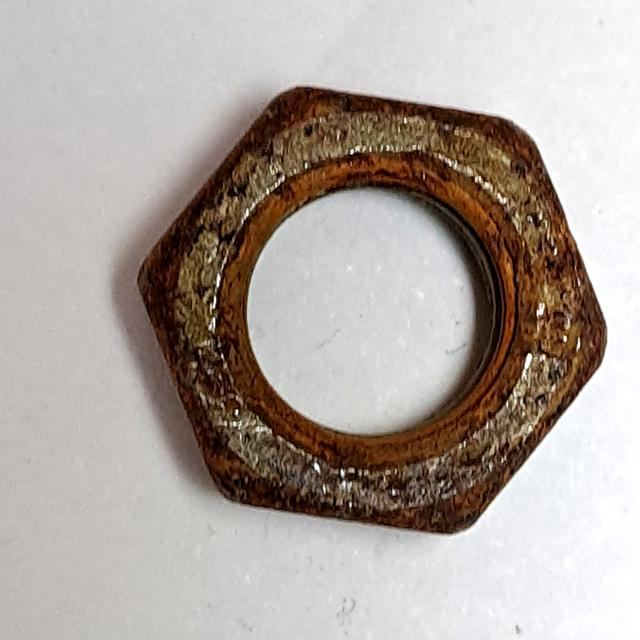Rust: (130, 72, 615, 547)
